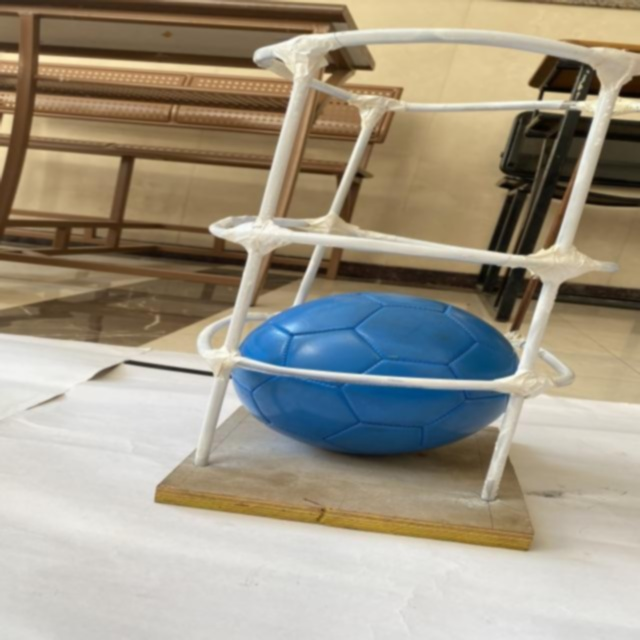blue_ball: (232, 290, 502, 446)
silo: (186, 31, 624, 540)
